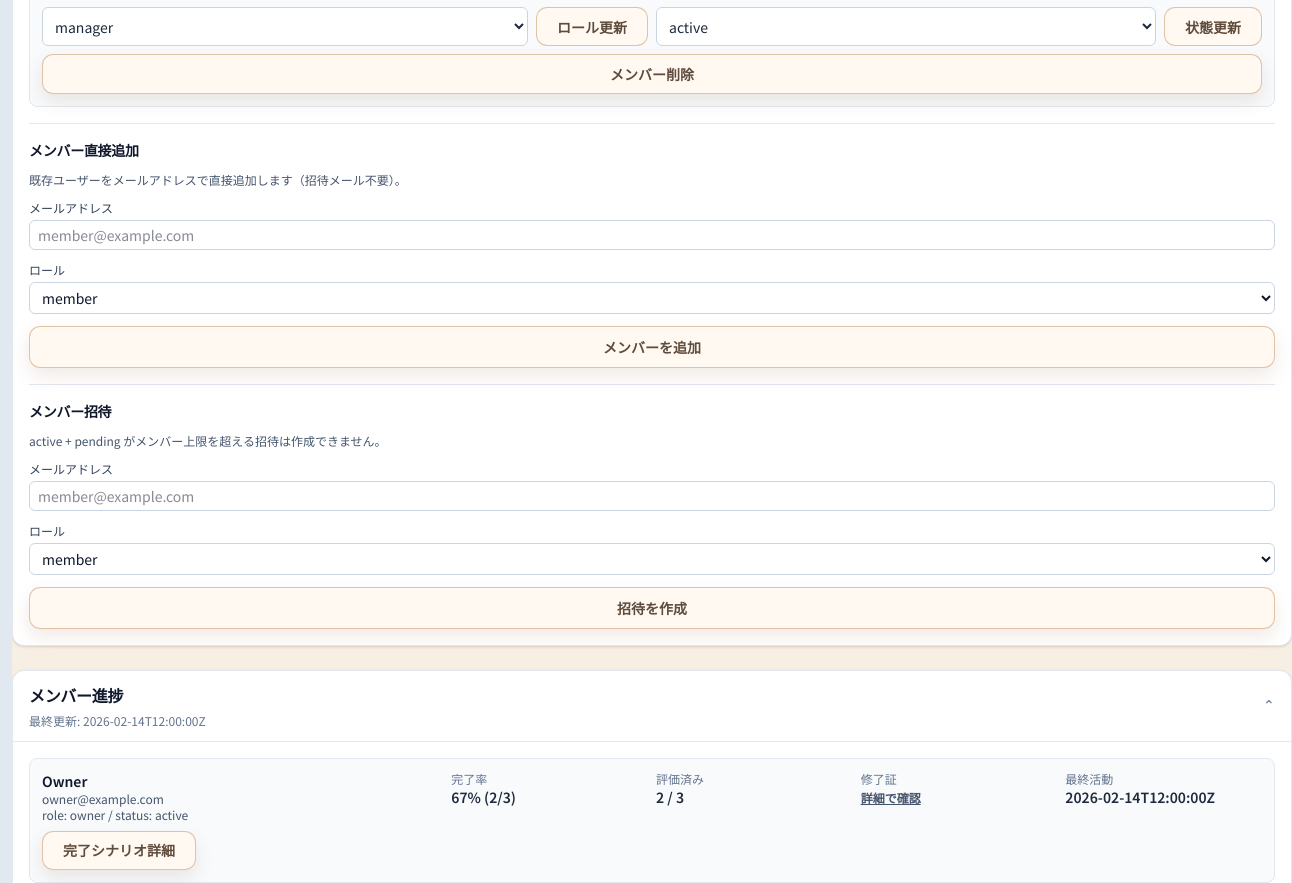
Test: TeamManagementPage › shows team member usage and creates invitation
(page scrolled)
Type "invitee@example.com" into the field labelled "メールアドレス" below "active + pending がメンバー上限を超える招待は作成できません。" at point(652, 496), box 29,481 -> 1275,511
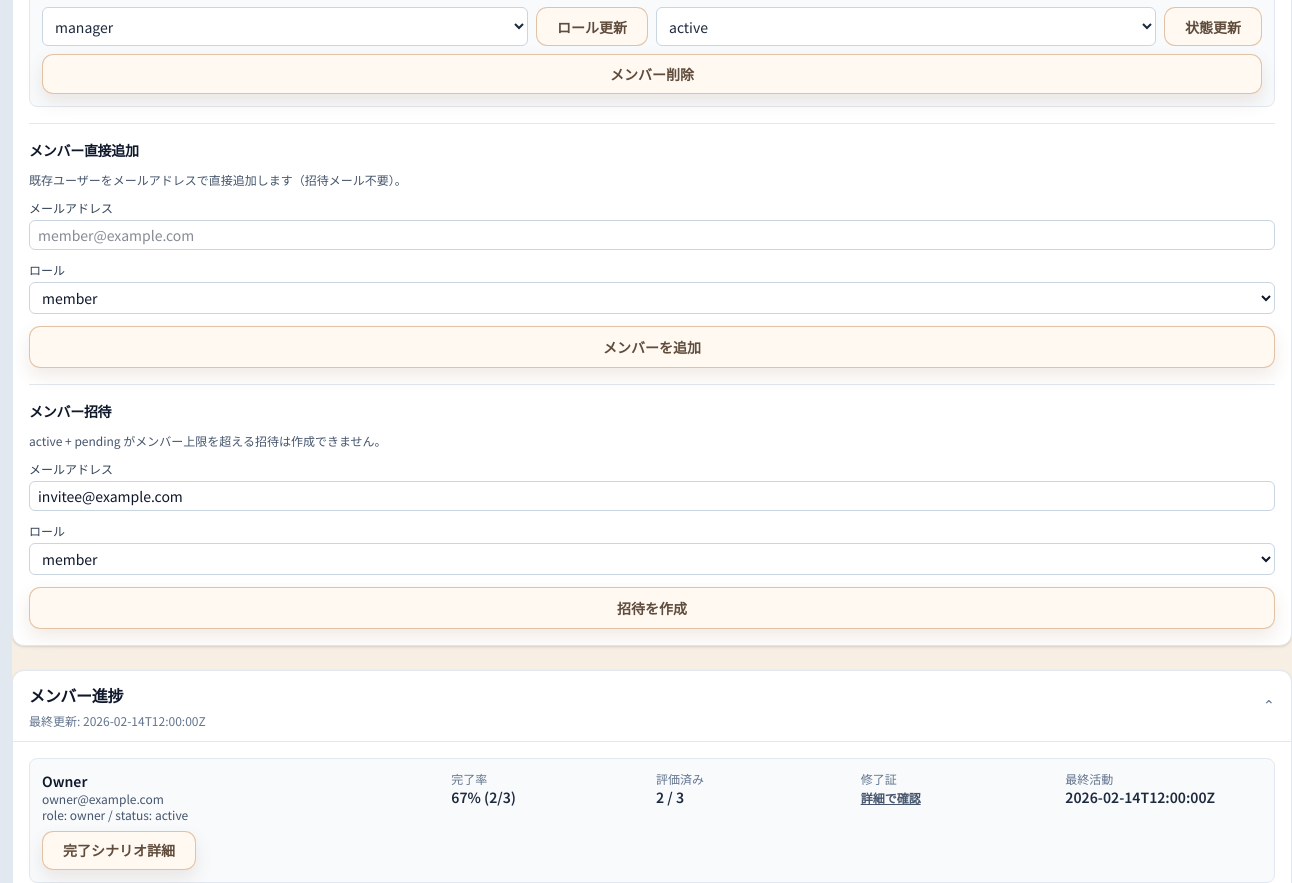
Select "member" in the dropdown labelled "ロール" below "active + pending がメンバー上限を超える招待は作成できません。" at point(652, 559), box 29,543 -> 1275,575
Click the button "招待を作成" at point(652, 608), box 29,587 -> 1275,629
(page scrolled)
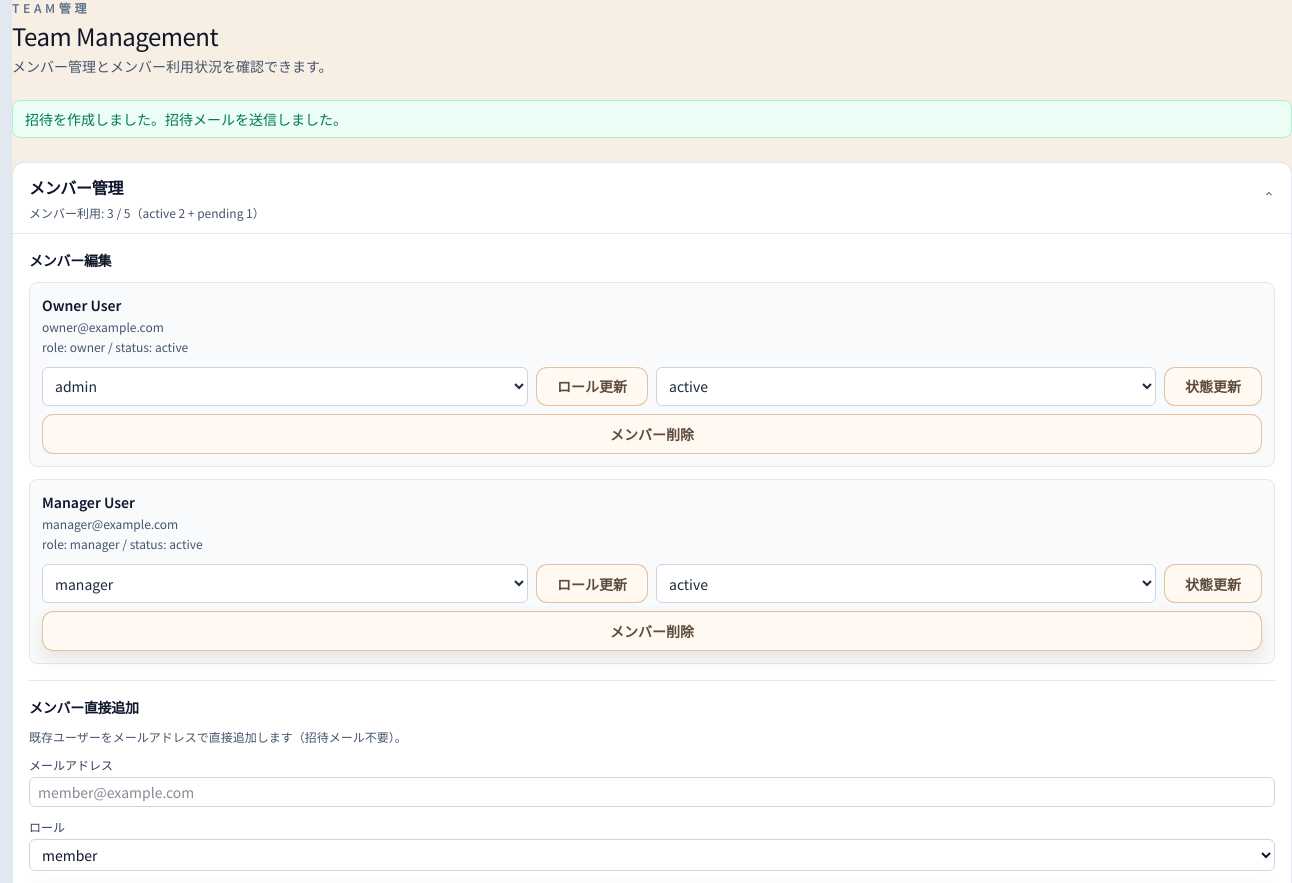
Expected: the text "Manager User" is shown, 42,492 -> 135,512
Expected: the text "招待を作成しました。招待メールを送信しました。" is shown, 12,100 -> 1291,138
